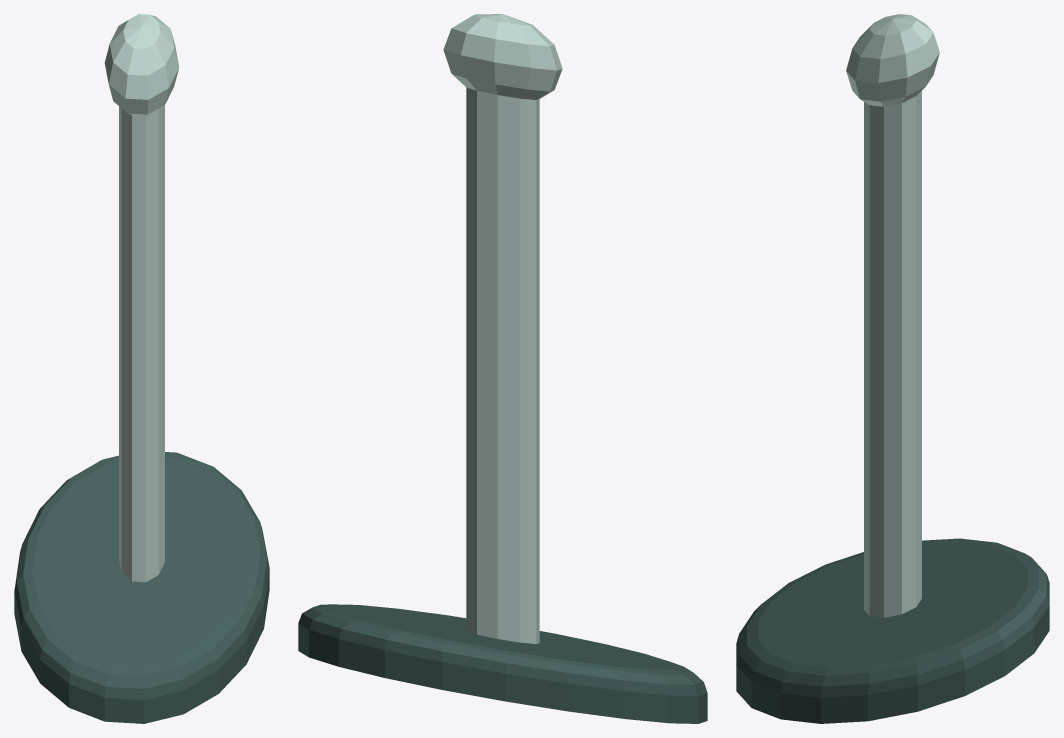
File: Checkpoint_Post.gltf
3 renders of one model, left to right at view 1: azimuth 30°, elevation 25°; view 2: azimuth 150°, elevation 25°; view 3: azimuth 270°, elevation 25°, orthographic. The views are drawn at different scales.
Visible parts, largest first — view 1: Checkpoint_Post_baked; view 2: Checkpoint_Post_baked; view 3: Checkpoint_Post_baked.
Part boxes in pixels (box(x1,y1,x2,y2)): Checkpoint_Post_baked: box(14, 14, 269, 723); Checkpoint_Post_baked: box(298, 14, 707, 723); Checkpoint_Post_baked: box(736, 14, 1049, 723).
Bounding box in the file's own units: 0.4719 × 1.06 × 0.4346.
